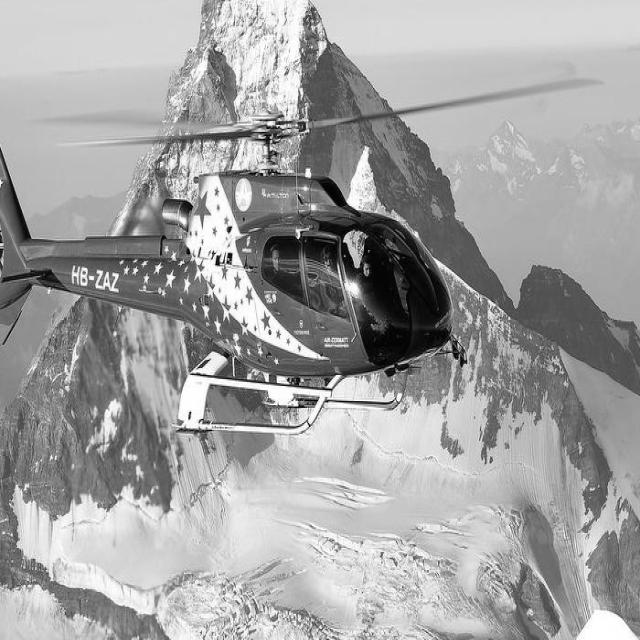helicopter: (1, 32, 563, 443)
